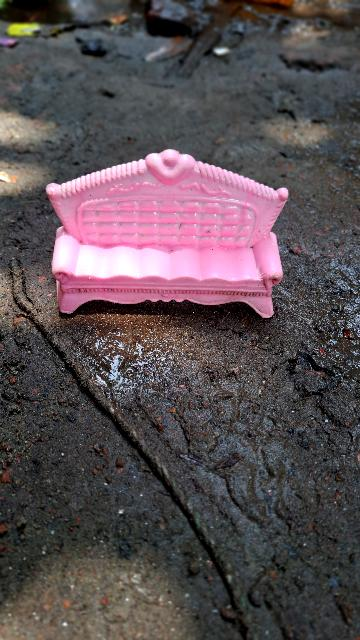hardplastic: (51, 151, 294, 329)
